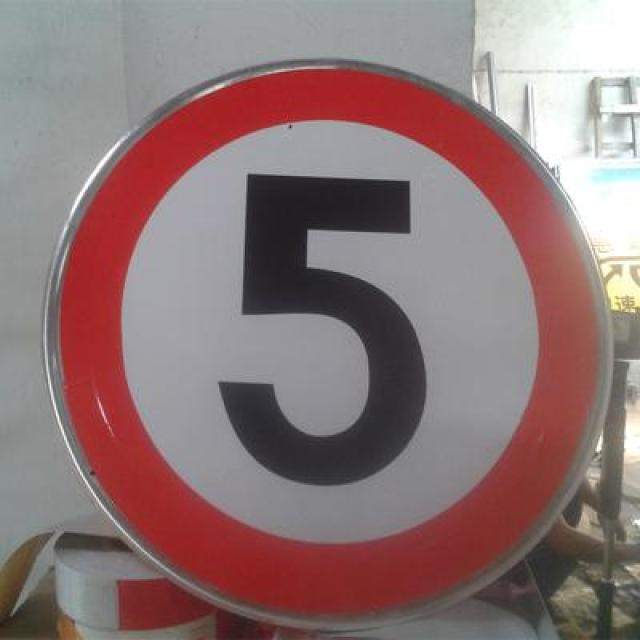speed limit 10: (39, 63, 613, 632)
